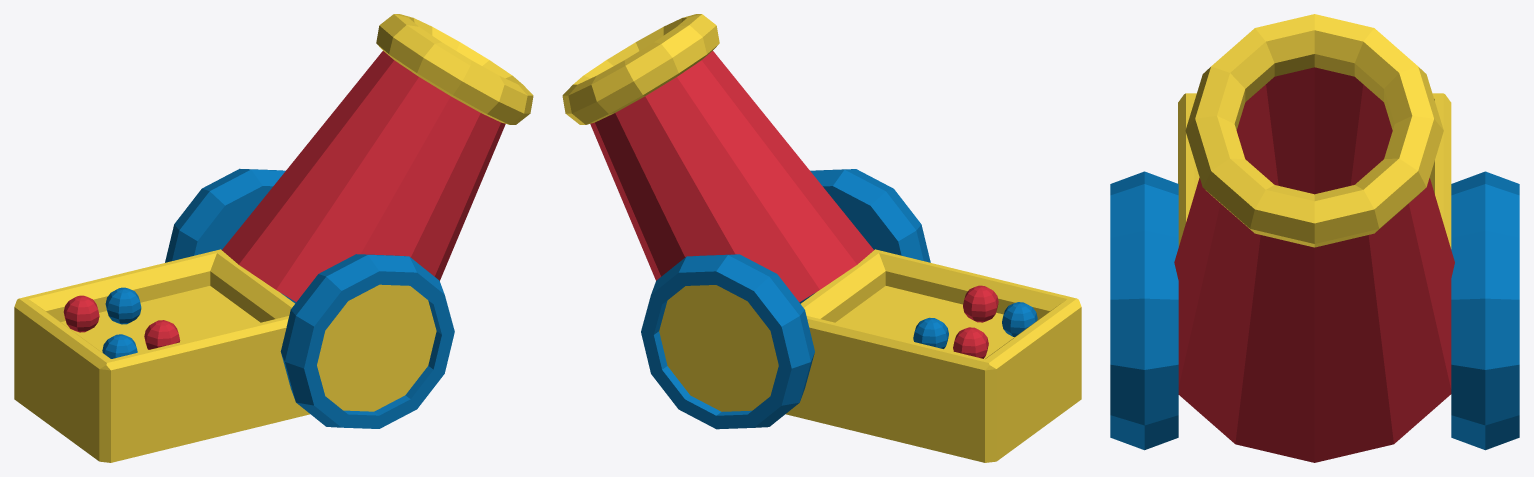
Rendered from toyCannon.fbx.
3 renders of one model, left to right at view 1: azimuth 30°, elevation 25°; view 2: azimuth 150°, elevation 25°; view 3: azimuth 270°, elevation 25°, orthographic. The views are drawn at different scales.
Visible parts, largest first — view 1: Cylinder.005, Cylinder.003, Cylinder.001, Cylinder.004, Cylinder.002, Cylinder.007, Cylinder.008, Cylinder.006, Cylinder.009; view 2: Cylinder.005, Cylinder.003, Cylinder.002, Cylinder.004, Cylinder.001, Cylinder.006, Cylinder.009, Cylinder.008, Cylinder.007; view 3: Cylinder.003, Cylinder.004, Cylinder.002, Cylinder.001, Cylinder.005.
Boxes of the visible parts, x1,y1,x2,y2 form: Cylinder.005: (14, 249, 309, 462); Cylinder.003: (222, 51, 505, 302); Cylinder.001: (280, 254, 454, 428); Cylinder.004: (376, 14, 533, 124); Cylinder.002: (165, 168, 295, 303); Cylinder.007: (105, 287, 141, 324); Cylinder.008: (63, 295, 99, 332); Cylinder.006: (144, 320, 180, 349); Cylinder.009: (102, 334, 137, 358); Cylinder.005: (786, 249, 1081, 462); Cylinder.003: (590, 51, 873, 302); Cylinder.002: (641, 254, 814, 429); Cylinder.004: (562, 14, 719, 124); Cylinder.001: (799, 169, 930, 303); Cylinder.006: (963, 285, 998, 322); Cylinder.009: (1002, 302, 1037, 336); Cylinder.008: (953, 327, 988, 358); Cylinder.007: (913, 317, 948, 348); Cylinder.003: (1174, 67, 1454, 462); Cylinder.004: (1185, 14, 1443, 247); Cylinder.002: (1451, 171, 1519, 450); Cylinder.001: (1110, 171, 1178, 450); Cylinder.005: (1178, 93, 1451, 248).
Bounding box in the file's own units: 988 × 686 × 516.
